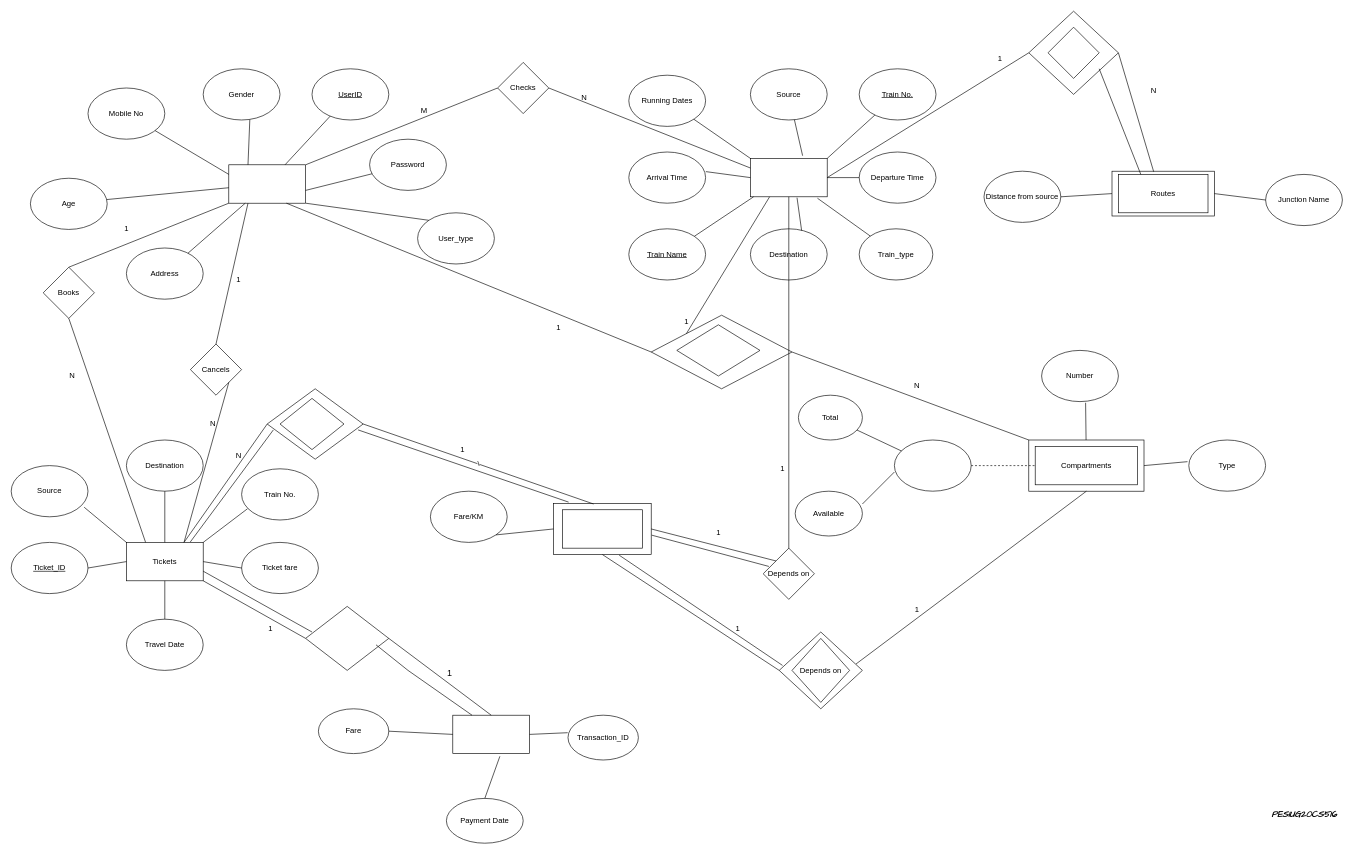
This 1360x854 diagram has some shape labels left out. The centre of each missing label's shape, as x and y in pixels:
"Books In" goes at pixel 718 350.
"Counts On" goes at pixel 311 424.
"Fare Table" goes at pixel 602 528.
"Has" goes at pixel 347 638.
"Number of seats" goes at pixel 932 465.
"Payment" goes at pixel 491 734.
"Train" goes at pixel 788 177.
"Travel By" goes at pixel 1073 52.
"Users" goes at pixel 267 183.
